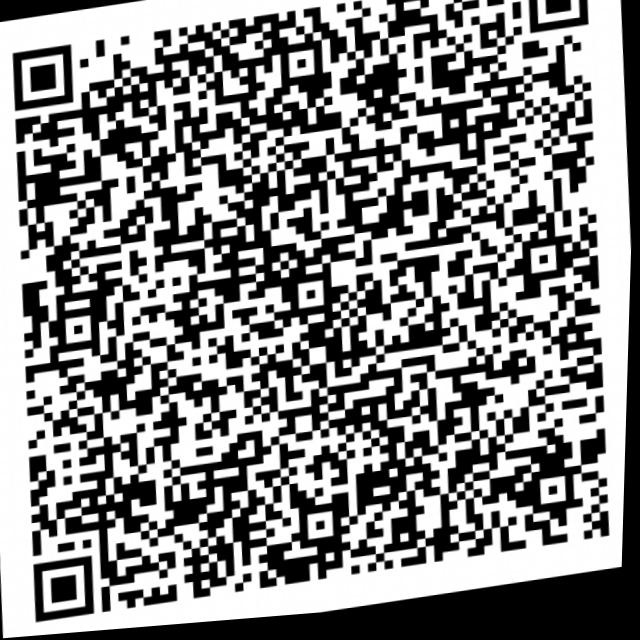QR_CODE: (0, 0, 637, 639)
